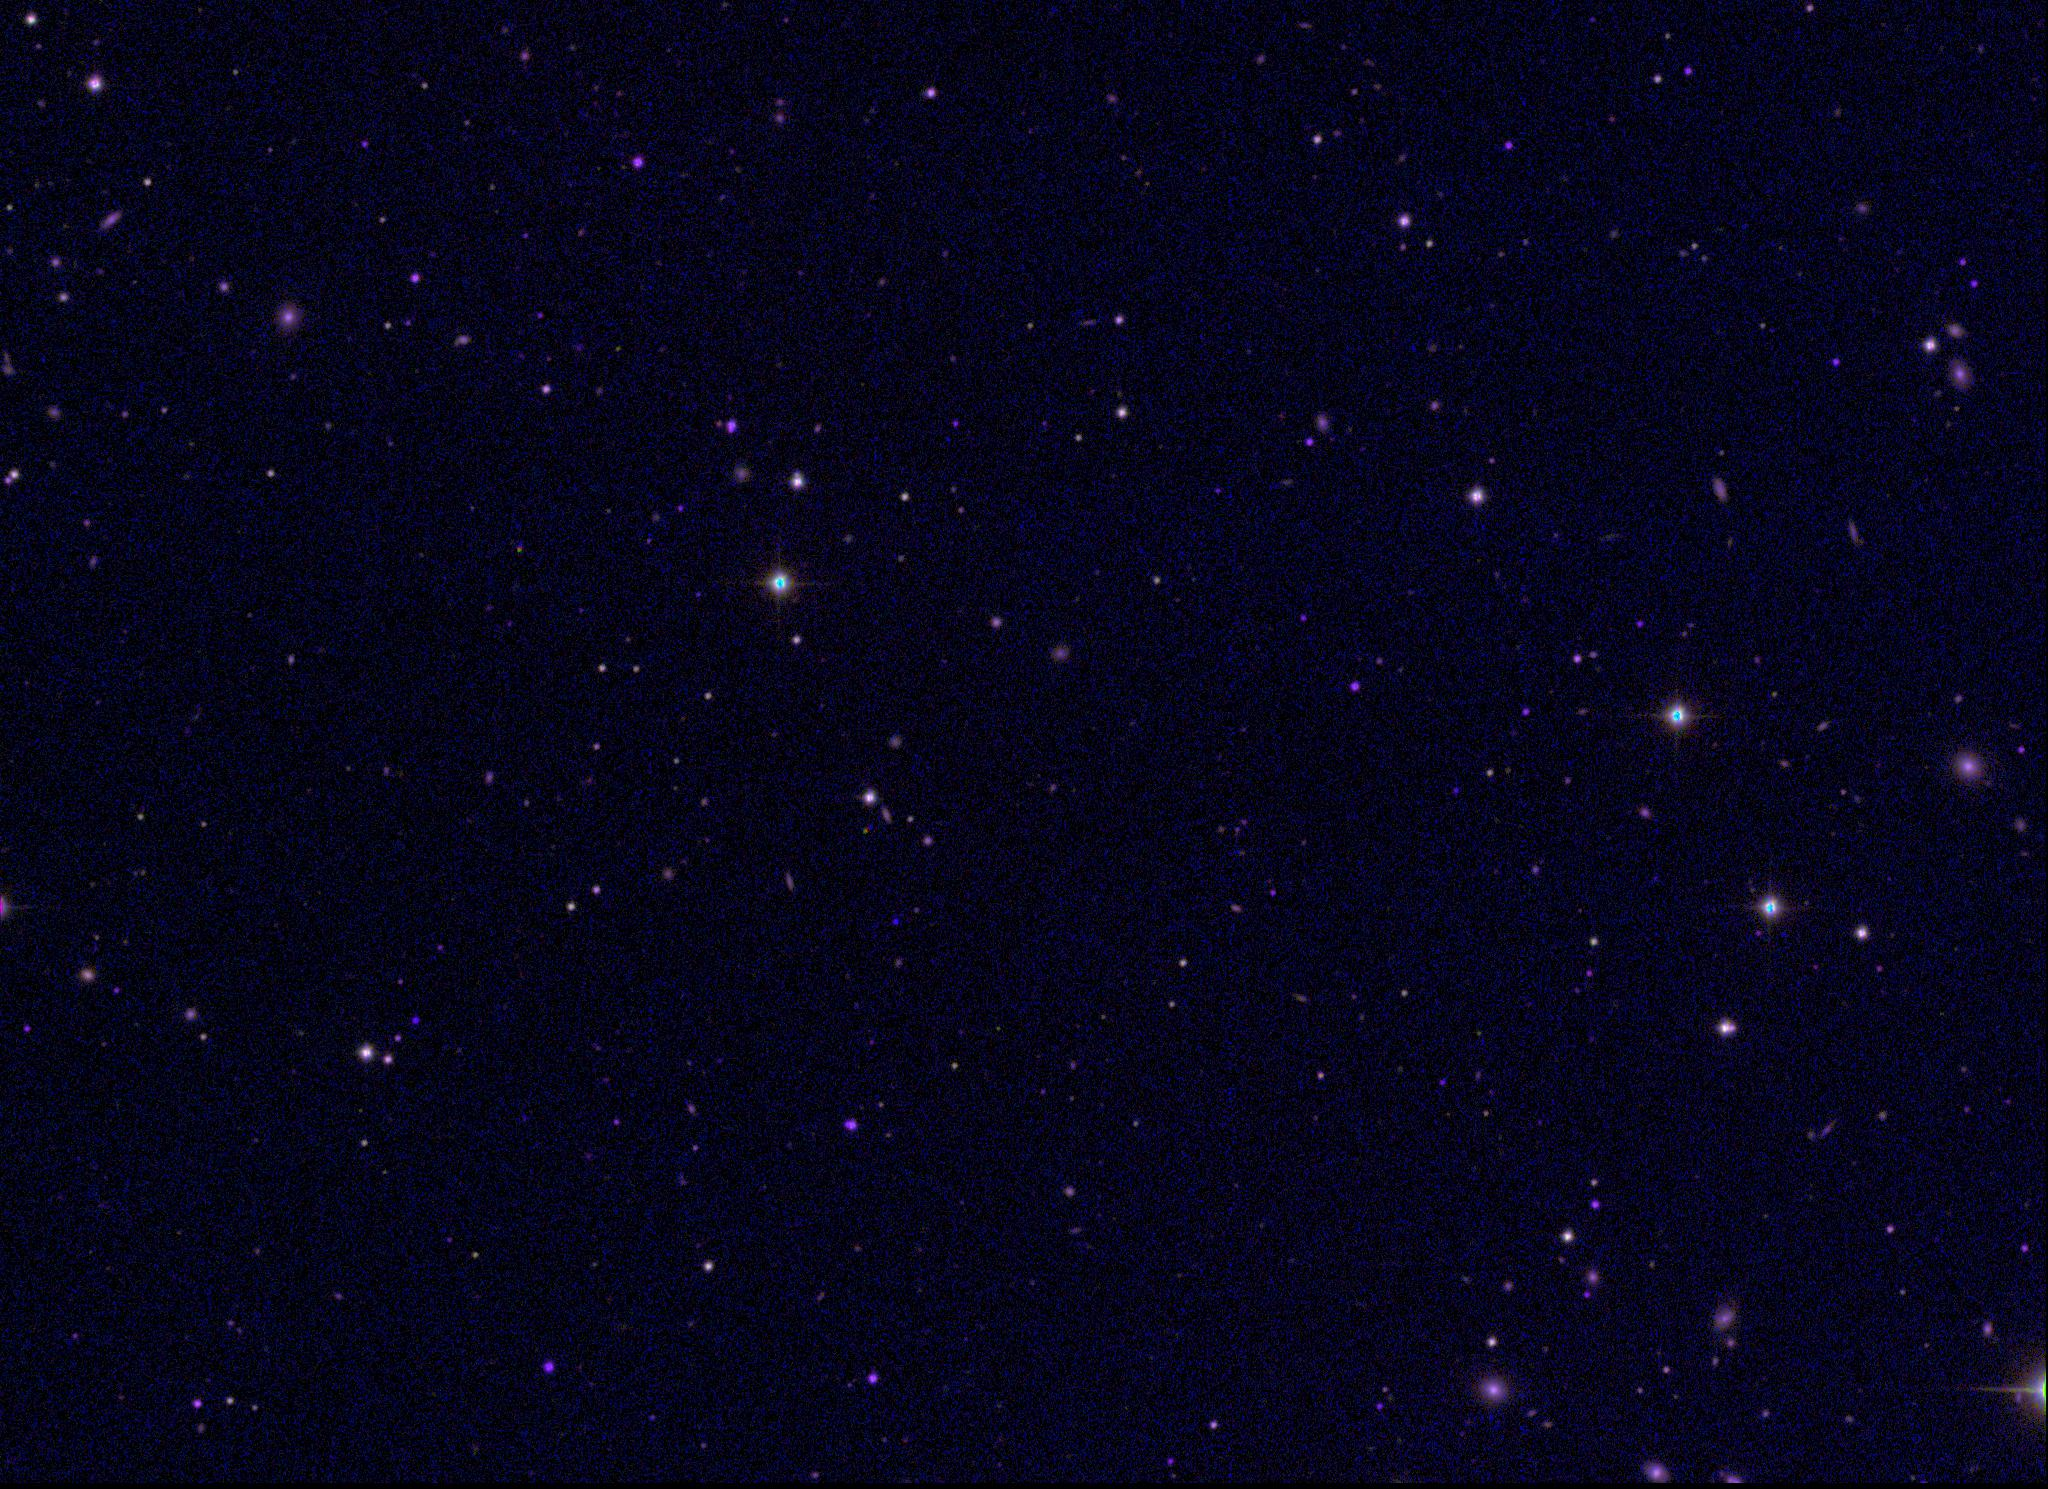L: (889, 915, 903, 929)
